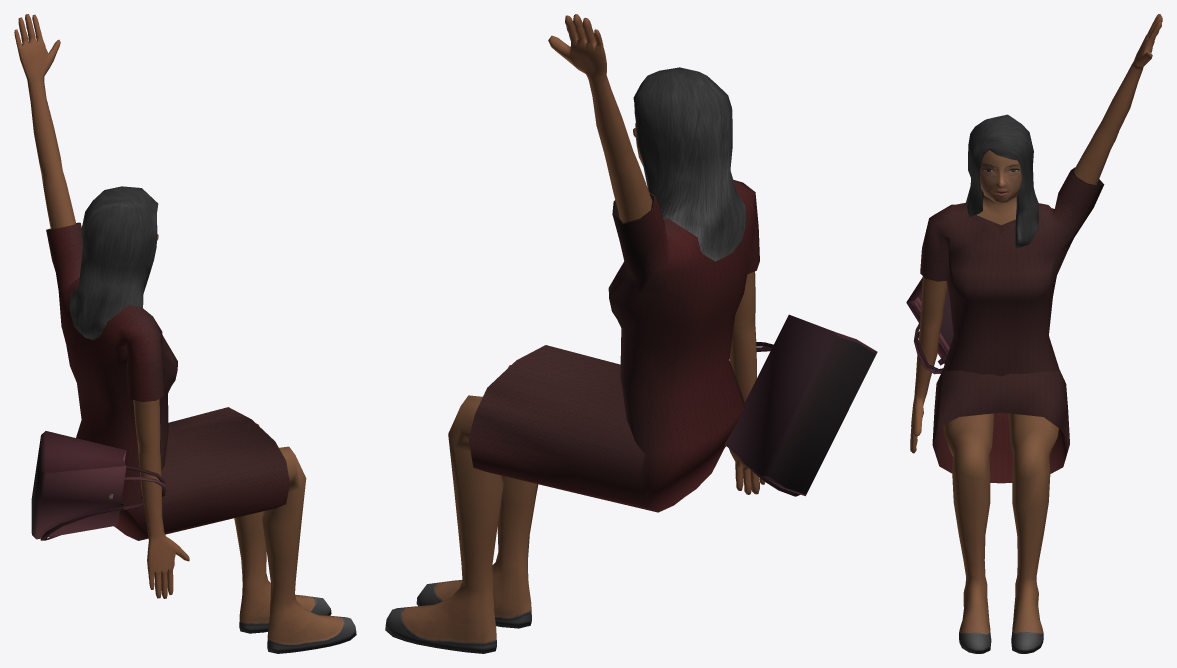
Rendered from seated_left.dae.
The picture shows the model from 3 angles, left to right: view 1: azimuth 30°, elevation 25°; view 2: azimuth 150°, elevation 25°; view 3: azimuth 270°, elevation 25°; orthographic projection. The views are drawn at different scales.
Visible parts, largest first — view 1: StaticHuman; view 2: StaticHuman; view 3: StaticHuman.
Part boxes in pixels (bbox=[...]): StaticHuman: bbox=[14, 14, 356, 653]; StaticHuman: bbox=[385, 14, 877, 653]; StaticHuman: bbox=[906, 14, 1162, 653].
Size of the model in its own units: 0.8437 by 0.6134 by 1.42.
2 materials, 2 textured.
